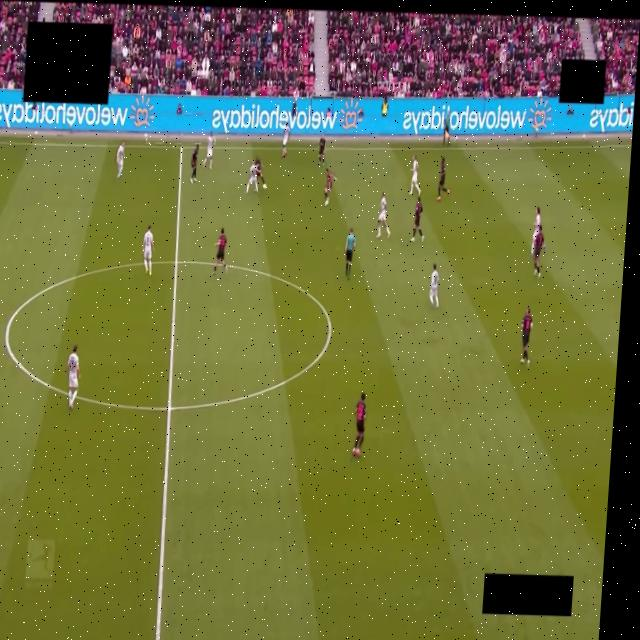ball: (262, 184, 265, 189)
player: (352, 393, 365, 456), (67, 346, 79, 409), (520, 308, 532, 366), (212, 228, 226, 275), (428, 264, 441, 309), (376, 193, 389, 238), (410, 198, 423, 242), (142, 226, 153, 276), (533, 225, 543, 278), (437, 157, 449, 200), (530, 208, 540, 255), (324, 169, 336, 206), (202, 132, 214, 169), (409, 157, 420, 197), (246, 160, 257, 193), (254, 158, 265, 189), (190, 144, 198, 183), (116, 142, 124, 179), (281, 125, 289, 157), (318, 134, 324, 165)
referee: (343, 227, 357, 280), (442, 114, 449, 145)
